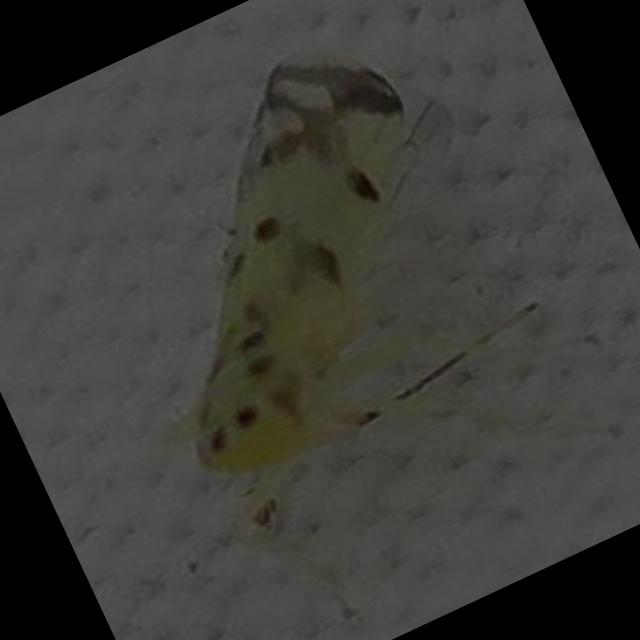green-leafhopper: (46, 4, 564, 546)
